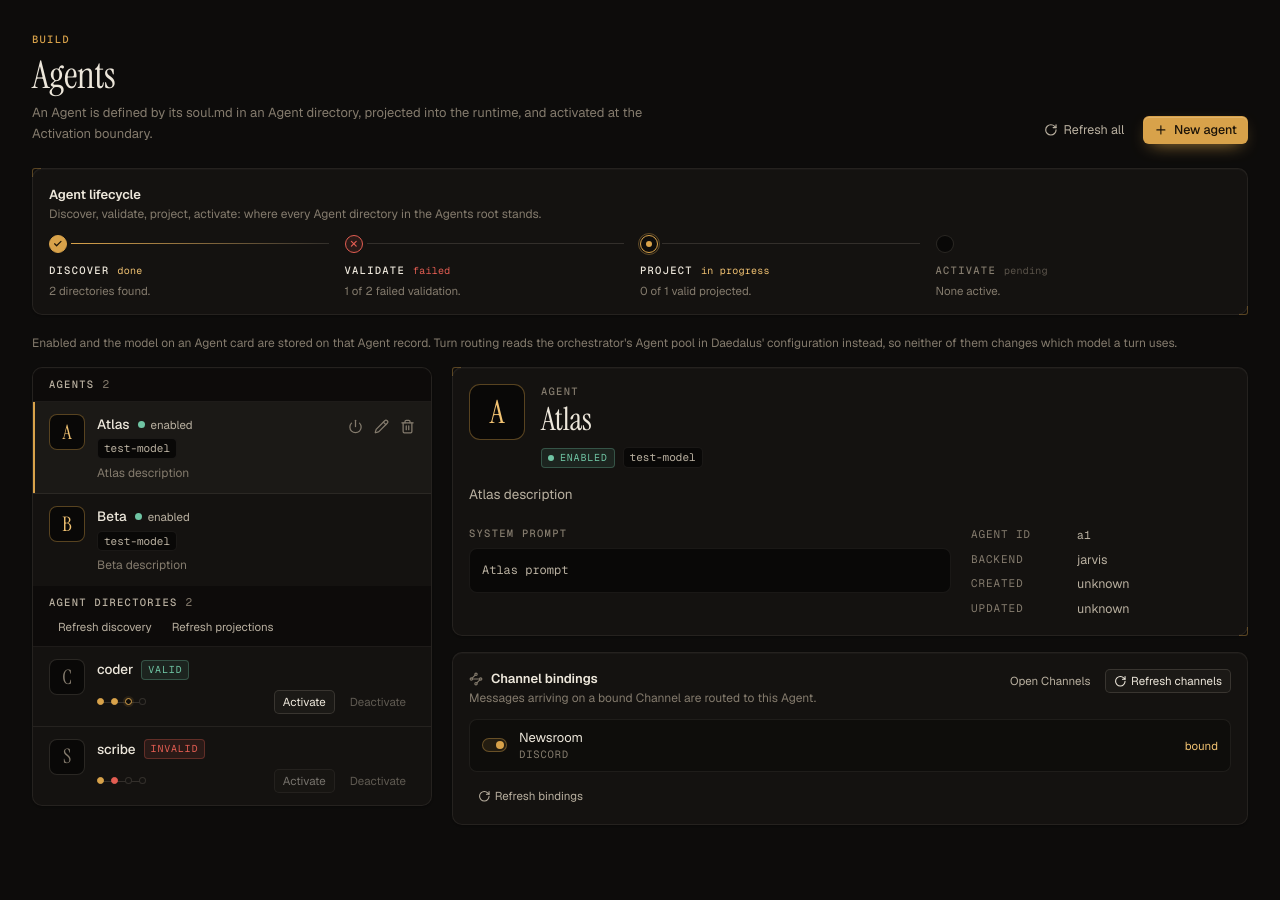
Test: Agents master-detail › shows the lifecycle track of a selected Agent directory, failing at Validate when its soul.md is invalid
Click the button "scribe".
click(116, 749)  # box [97,739,136,759]
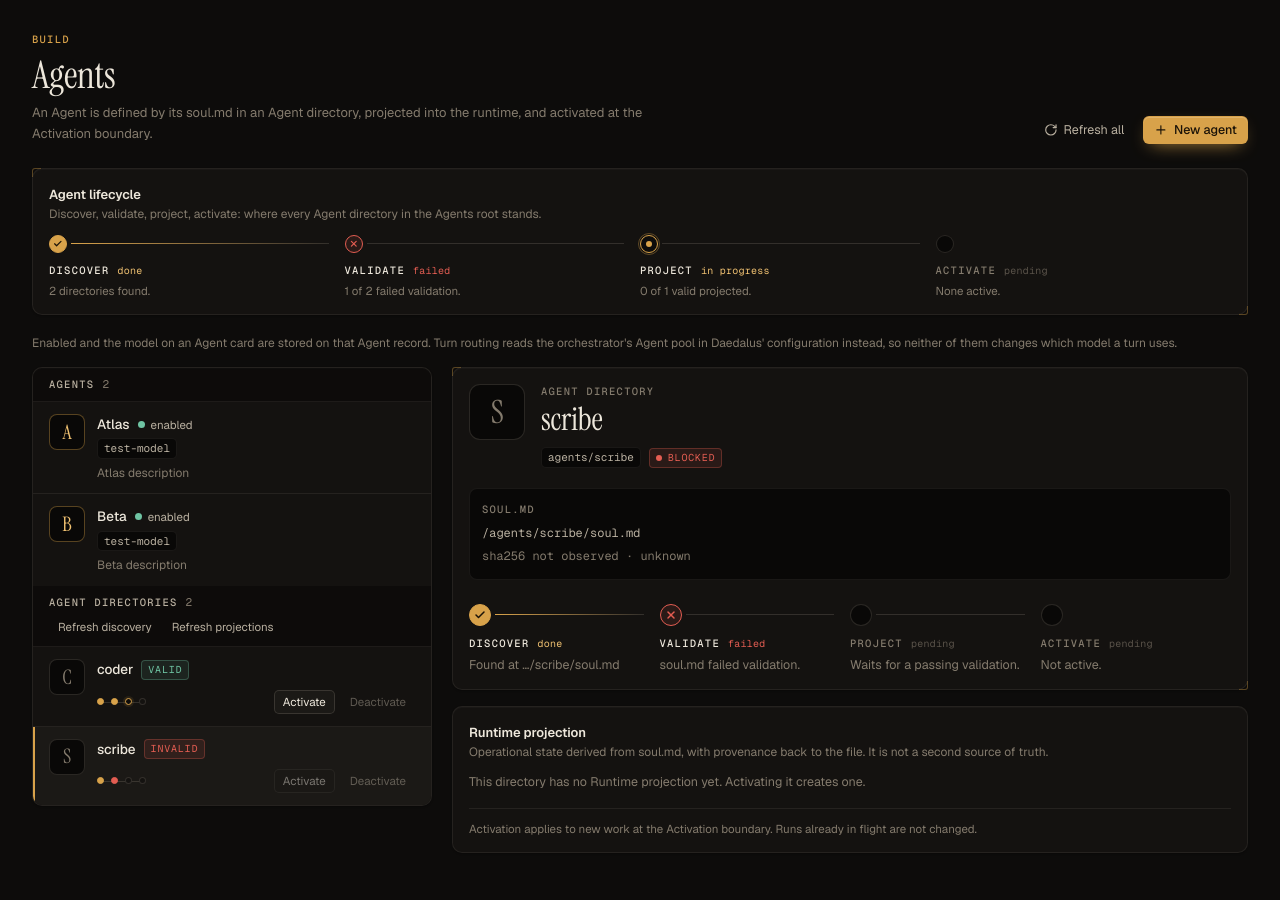
Now the list item "Validate failed soul.md failed validation." is shown, box [660,604,800,673]
Now the list item "Project pending Waits for a passing validation." is shown, box [850,604,1040,673]
Now the text "/agents/scribe/soul.md" is shown, box [482,525,640,541]
